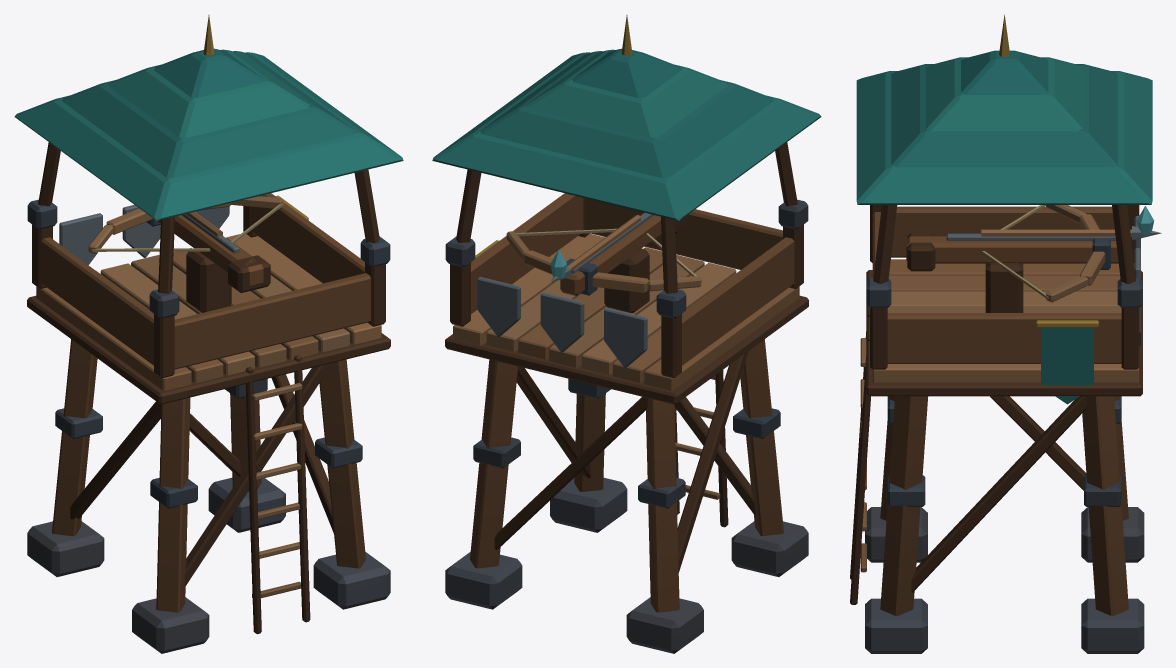
Rendered from def_watchtower.glb.
The picture shows the model from 3 angles, left to right: view 1: azimuth 30°, elevation 25°; view 2: azimuth 150°, elevation 25°; view 3: azimuth 270°, elevation 25°; orthographic projection. The views are drawn at different scales.
Visible parts, largest first — view 1: Base, Up3, Up2, Bow; view 2: Base, Up3, Up2, Bow; view 3: Base, Up3, Bow, Up2.
Part boxes in pixels (box(x1,y1,x2,y2)): Base: box(27, 193, 390, 653); Up3: box(14, 15, 403, 293); Up2: box(27, 199, 390, 508); Bow: box(88, 196, 283, 292); Base: box(445, 193, 808, 653); Up3: box(432, 15, 821, 293); Up2: box(445, 199, 808, 508); Bow: box(506, 212, 701, 295); Base: box(850, 205, 1144, 653); Up3: box(856, 14, 1154, 283); Bow: box(906, 205, 1161, 302); Up2: box(866, 216, 1142, 506).
Size of the model in its own units: 2.35 by 5.12 by 2.48.
